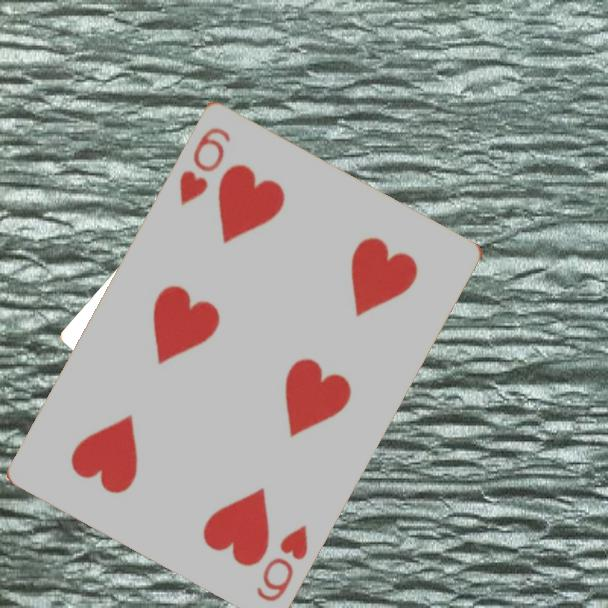h06: (175, 123, 234, 208), (252, 520, 311, 604)
